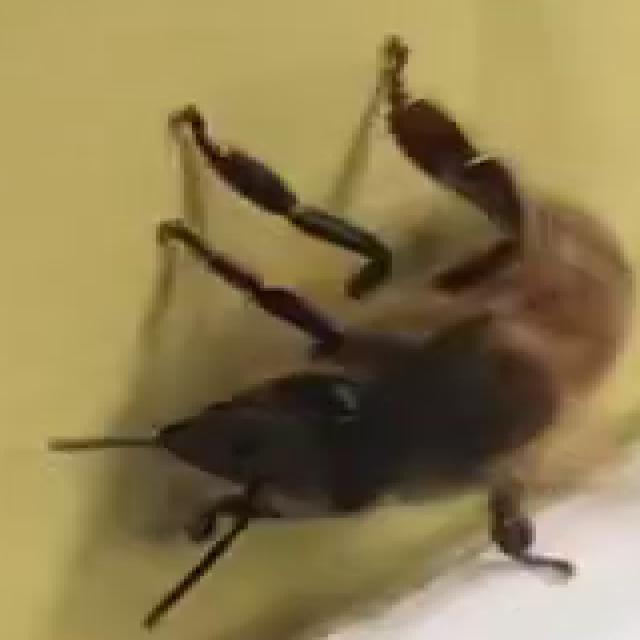honeybee: (120, 52, 638, 584)
